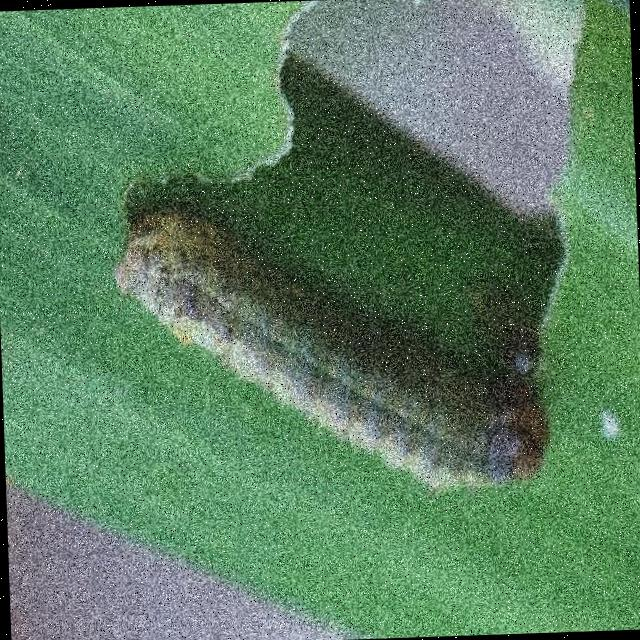worm: (111, 189, 553, 504)
